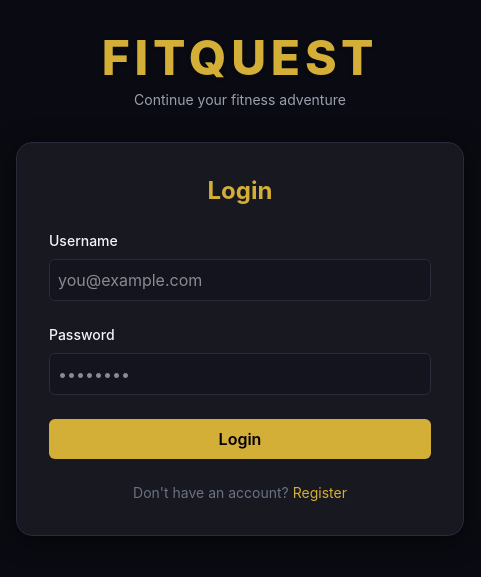
LoginPage › shows validation messages when fields are empty
Click the button "Login".
click(240, 439)  # box [49,419,431,459]
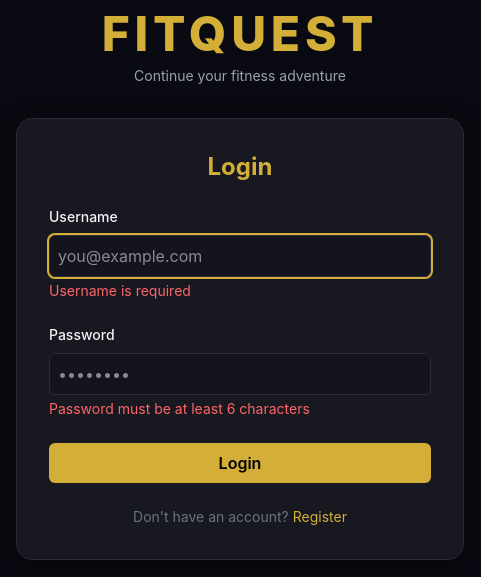
Expected: the text "Username is required" is shown, [49,282,191,299]
Expected: the text "Password must be at least 6 characters" is shown, [49,400,310,417]
